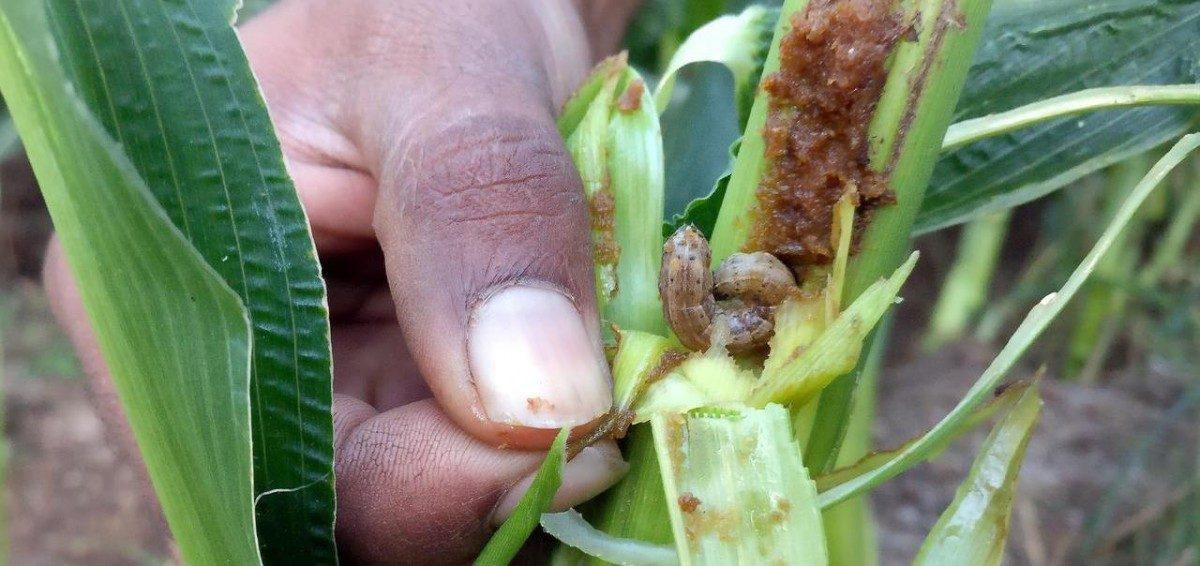Maize-fall-armyworm: (505, 21, 1045, 537)
